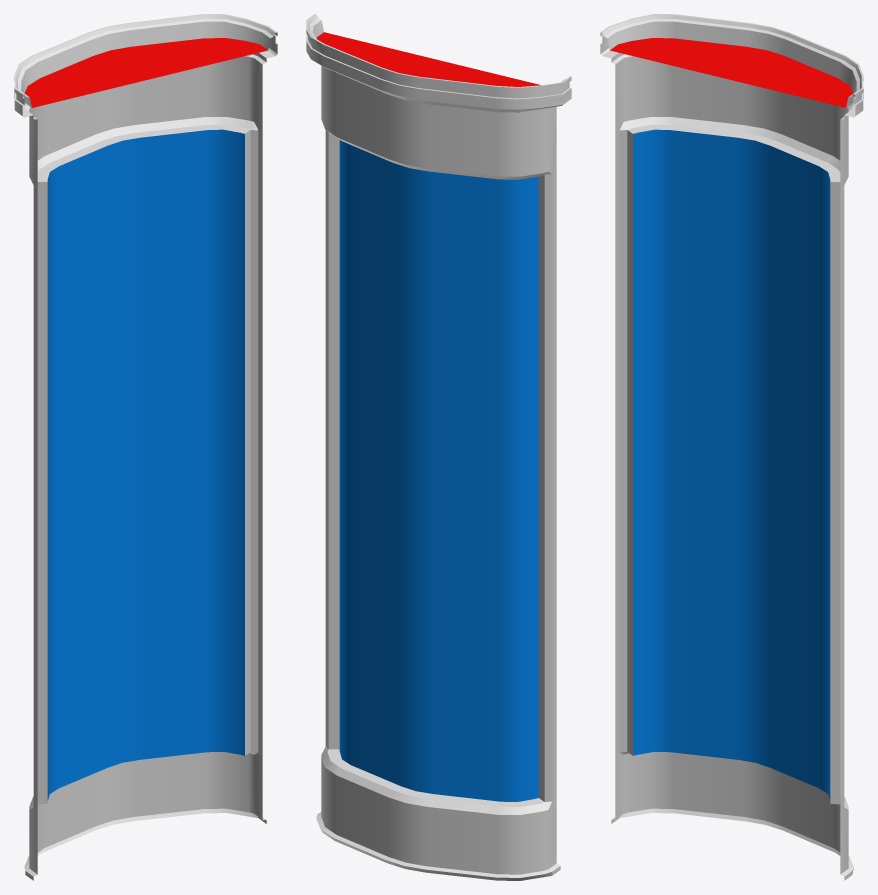
Rendered from stop gap.fbx.
3 views of the same model, side by side, from view 1: azimuth 30°, elevation 25°; view 2: azimuth 150°, elevation 25°; view 3: azimuth 330°, elevation 25° (orthographic).
Visible parts, largest first — view 1: floor_11; view 2: floor_11; view 3: floor_11.
Part boxes in pixels (x1,y1,x2,y2): floor_11: (14,14,277,880); floor_11: (306,14,571,880); floor_11: (600,14,863,880).
Size of the model in its own units: 279 by 830 by 84.08.
